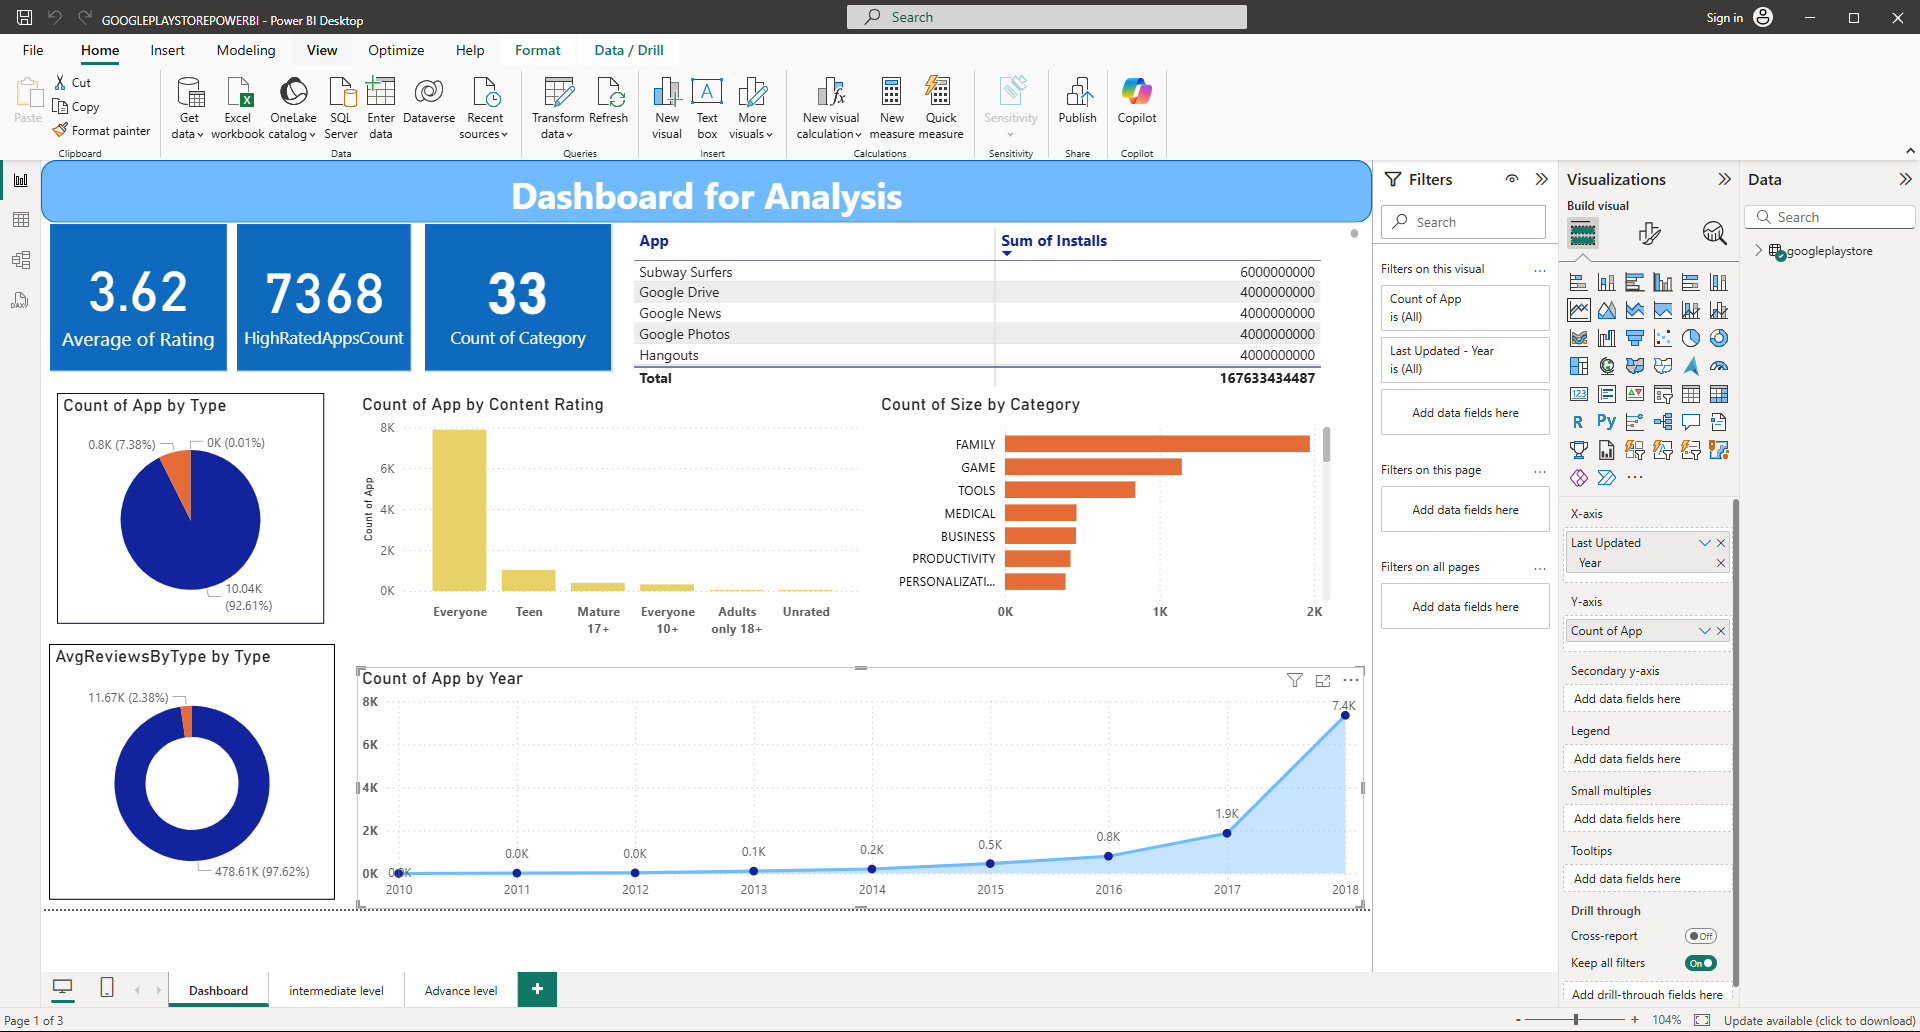

This screenshot's page, from the dashboard's own definition file:
{"tool":"powerbi","page":{"name":"Dashboard","canvas":[1280,720],"ordinal":0},"visuals":[{"type":"card","fields":{"Values":["Avg(googleplaystore.Rating)"]},"box":[7.8,60.3,172.2,143],"z":0},{"type":"card","fields":{"Values":["Count(googleplaystore.Category)"]},"box":[368.6,60.3,180.9,143],"z":1000},{"type":"pieChart","fields":{"Series":["googleplaystore.Type"],"Y":["CountNonNull(googleplaystore.App)"]},"box":[15.4,224.1,256.8,222.1],"z":2000},{"type":"columnChart","fields":{"Category":["googleplaystore.Content Rating"],"Y":["Count(googleplaystore.App)"]},"box":[303.9,224.1,490.5,241.4],"z":3000},{"type":"tableEx","fields":{"Values":["googleplaystore.App","Sum(googleplaystore.Installs)","select"]},"box":[564.5,60.6,707.8,163.5],"z":4000},{"type":"card","fields":{"Values":["googleplaystore.HighRatedAppsCount"]},"box":[187.7,60.3,169.2,143],"z":5000},{"type":"donutChart","fields":{"Category":["googleplaystore.Type"],"Y":["googleplaystore.AvgReviewsByType"]},"box":[7.7,465.5,275,246.2],"z":6000},{"type":"barChart","fields":{"Category":["googleplaystore.Category"],"Y":["CountNonNull(googleplaystore.Size)"]},"box":[803,224.1,442.4,228.9],"z":7000},{"type":"lineChart","fields":{"Category":["googleplaystore.Last Updated.Variation.Date Hierarchy.Year"],"Y":["CountNonNull(googleplaystore.App)"]},"box":[303.9,487.6,968.4,232.7],"z":8000},{"type":"shape","box":[0,0,1280,60.3],"z":9000}]}

Visuals, with their boxes on the page's 1280x720 design canvas (x1, y1, x2, y2). These are canvas units, not pixel positions in the 1920x1032 screenshot, which may show the page scaled, cropped or inside an application window:
card - Avg(googleplaystore.Rating): bbox(8, 60, 180, 203)
card - Count(googleplaystore.Category): bbox(369, 60, 550, 203)
pieChart - googleplaystore.Type x CountNonNull(googleplaystore.App): bbox(15, 224, 272, 446)
columnChart - googleplaystore.Content Rating x Count(googleplaystore.App): bbox(304, 224, 794, 466)
tableEx - googleplaystore.App x Sum(googleplaystore.Installs): bbox(564, 61, 1272, 224)
card - googleplaystore.HighRatedAppsCount: bbox(188, 60, 357, 203)
donutChart - googleplaystore.Type x googleplaystore.AvgReviewsByType: bbox(8, 466, 283, 712)
barChart - googleplaystore.Category x CountNonNull(googleplaystore.Size): bbox(803, 224, 1245, 453)
lineChart - googleplaystore.Last Updated.Variation.Date Hierarchy.Year x CountNonNull(googleplaystore.App): bbox(304, 488, 1272, 720)
shape: bbox(0, 0, 1280, 60)
